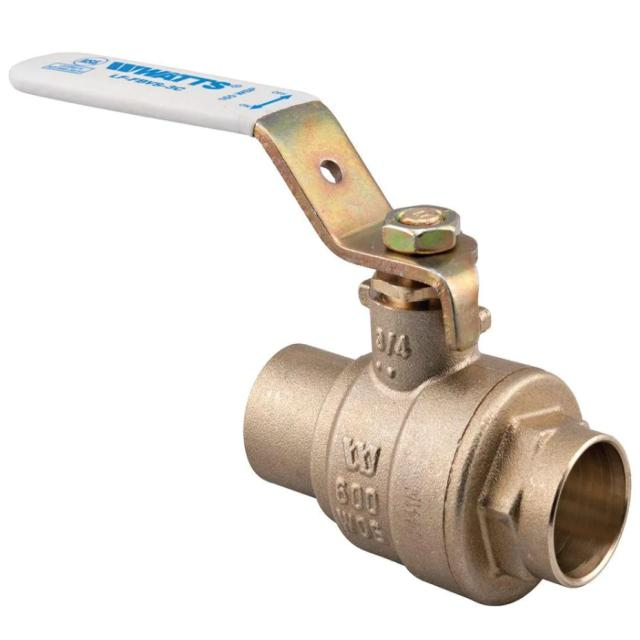Lever Handle Valve Threaded: (3, 40, 638, 398)
